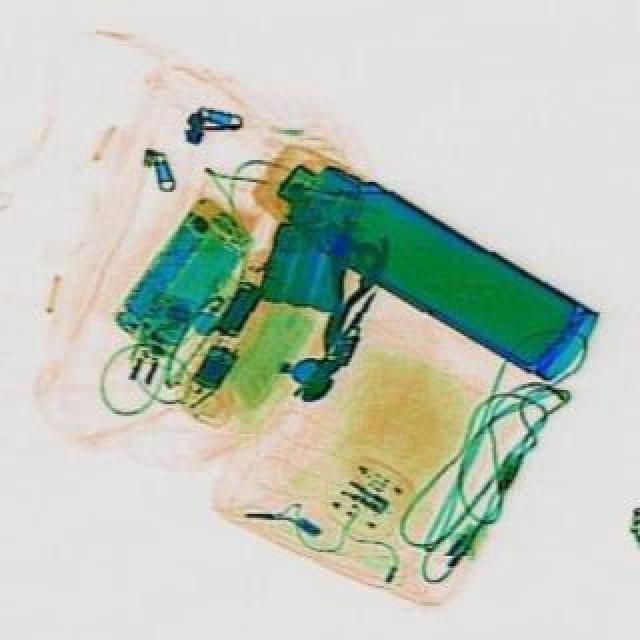wrench: (294, 224, 392, 358)
